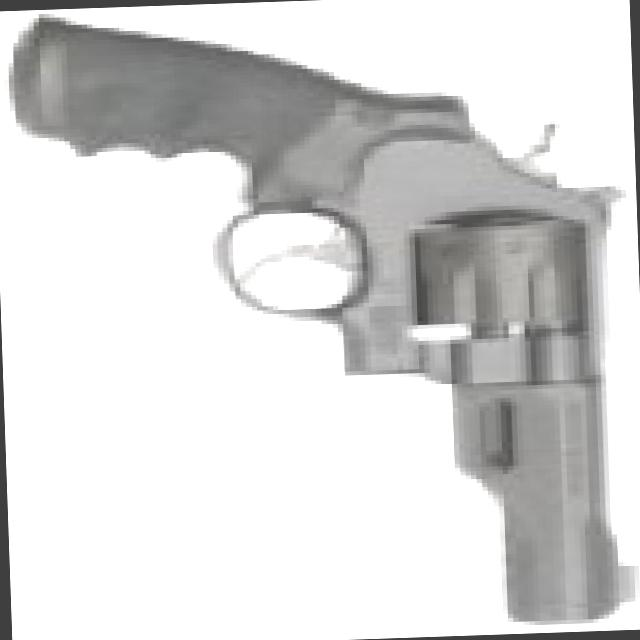handgun: (22, 13, 639, 627)
